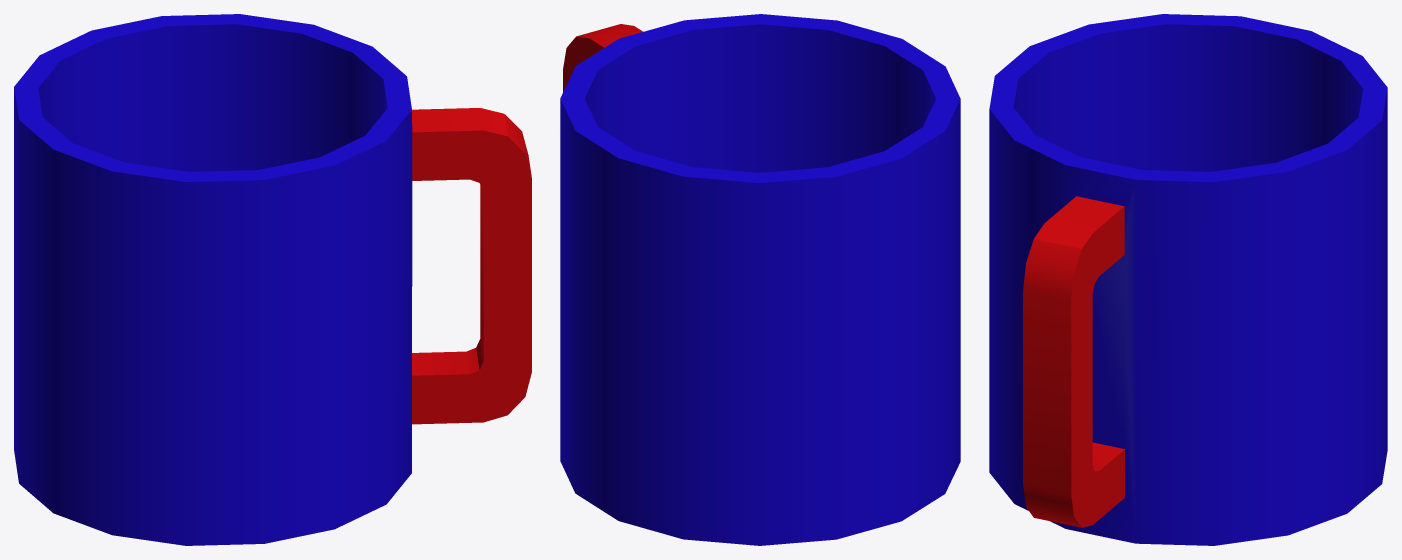
Rendered from mug.fbx.
The picture shows the model from 3 angles, left to right: view 1: azimuth 30°, elevation 25°; view 2: azimuth 150°, elevation 25°; view 3: azimuth 270°, elevation 25°; orthographic projection.
Visible parts, largest first — view 1: Mug; view 2: Mug; view 3: Mug.
Part boxes in pixels (x1,y1,x2,y2): Mug: (14, 14, 531, 545); Mug: (560, 14, 960, 545); Mug: (989, 14, 1387, 545).
Bounding box in the file's own units: 20.67 × 16.75 × 16.61.
